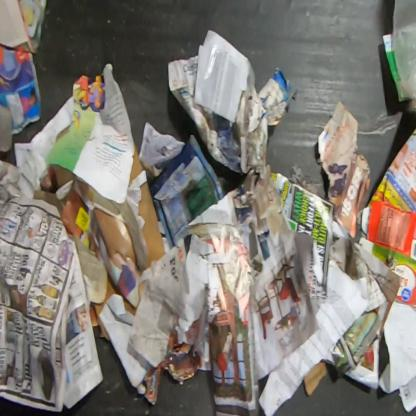cardboard: (91, 144, 168, 278), (304, 360, 328, 396), (50, 165, 78, 188), (56, 125, 70, 142)
soft_plastic: (392, 0, 415, 111)
